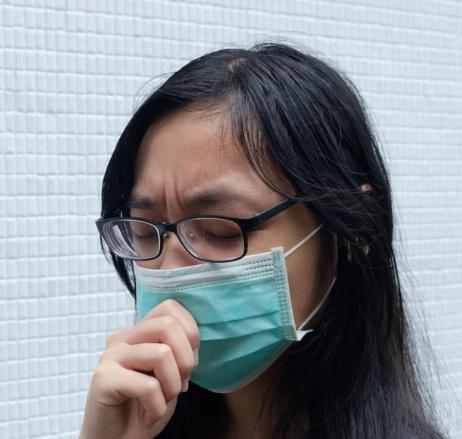WRONG: (126, 166, 310, 395)
